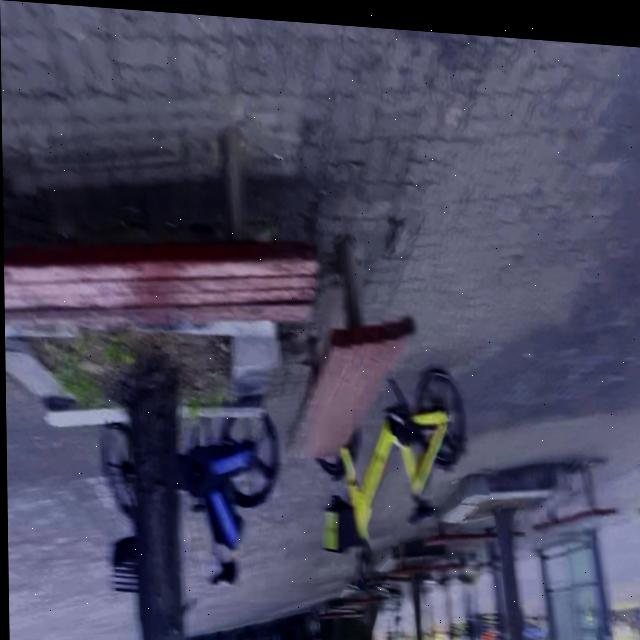ebike_ok: (95, 408, 279, 598)
